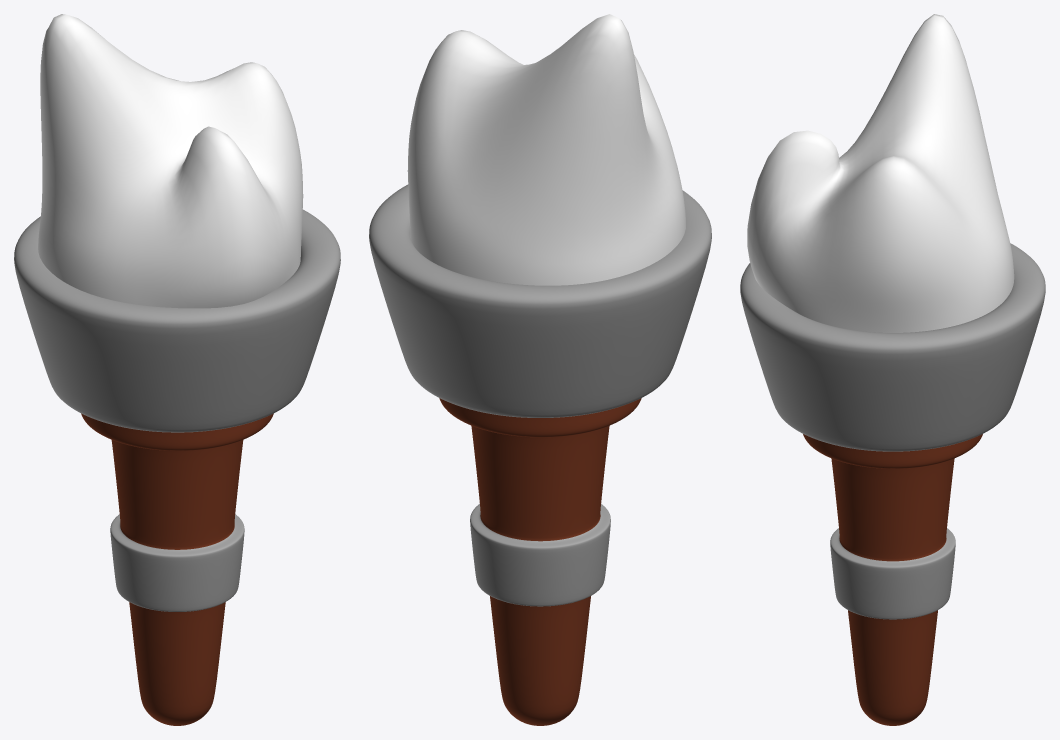
Rendered from torch-3d-icon-1310844796028.glb.
The picture shows the model from 3 angles, left to right: view 1: azimuth 30°, elevation 25°; view 2: azimuth 150°, elevation 25°; view 3: azimuth 270°, elevation 25°; orthographic projection. The views are drawn at different scales.
Visible parts, largest first — view 1: Fire, Torch 2, Torch 1; view 2: Fire, Torch 2, Torch 1; view 3: Fire, Torch 2, Torch 1.
Part boxes in pixels (x1,y1,x2,y2): Fire: [38, 14, 303, 308]; Torch 2: [14, 209, 340, 611]; Torch 1: [81, 413, 273, 725]; Fire: [407, 14, 685, 285]; Torch 2: [369, 184, 711, 606]; Torch 1: [439, 398, 641, 725]; Fire: [747, 14, 1014, 332]; Torch 2: [740, 243, 1045, 619]; Torch 1: [803, 434, 982, 725].
Bounding box in the file's own units: 0.8208 × 1.97 × 0.8208.
